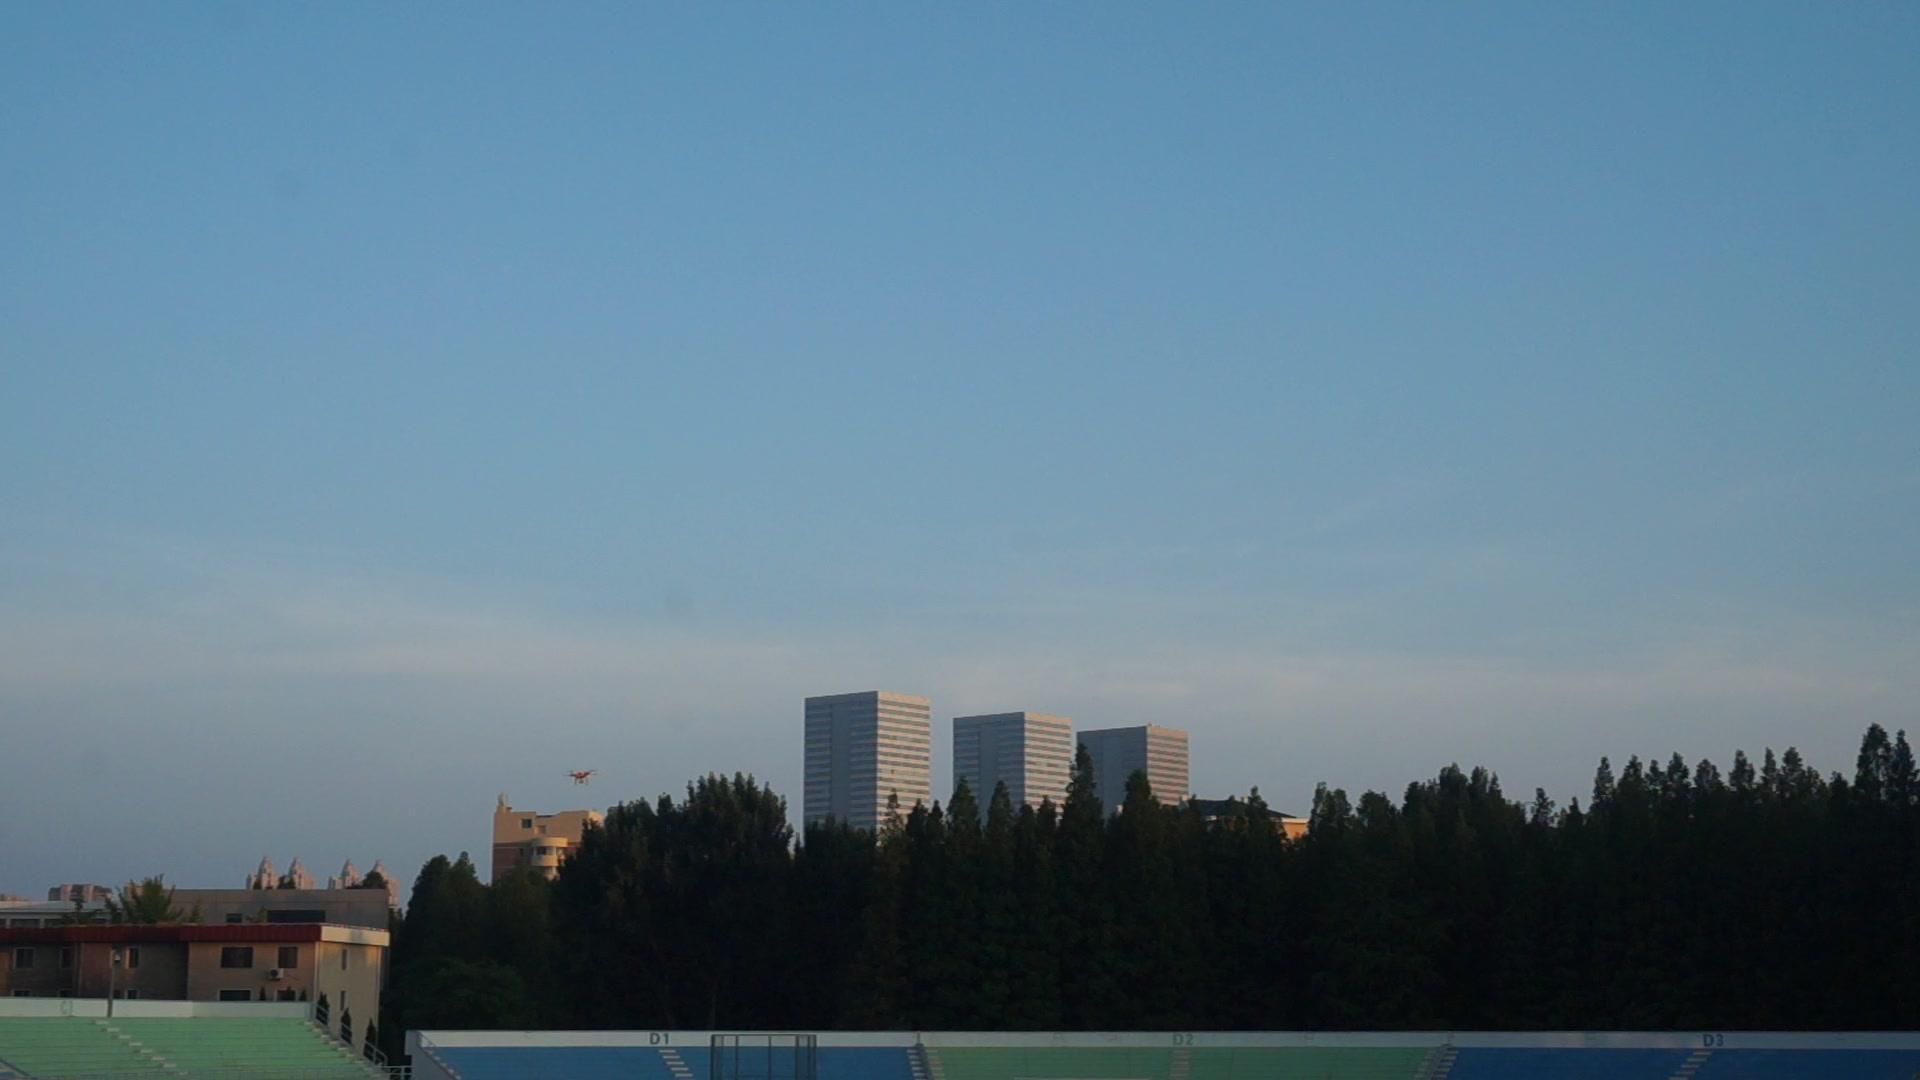UAV: (562, 769, 599, 787)
